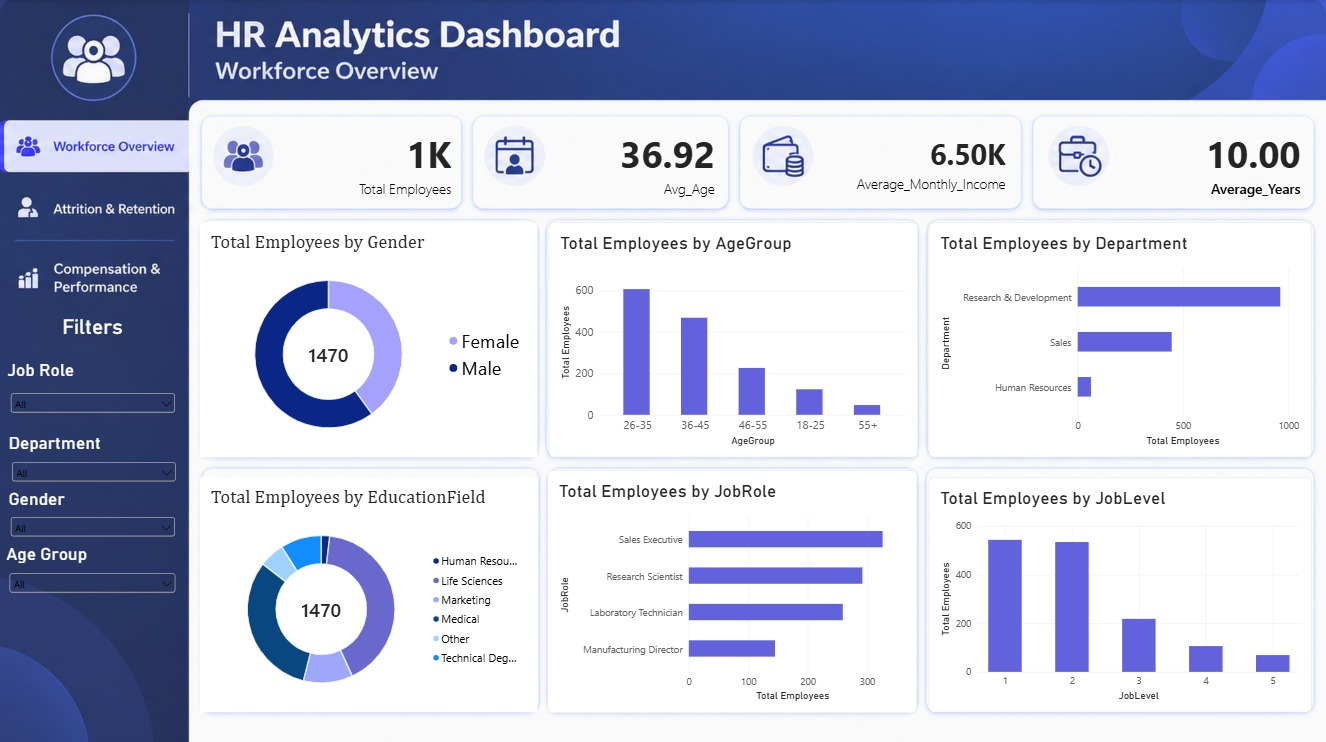

The page's visual inventory and layout, read from the dashboard file:
{"tool":"powerbi","page":{"name":"Overview","canvas":[1920,1080],"ordinal":0},"visuals":[{"type":"cardVisual","title":"dfdf","fields":{"Data":["HR_Analytics_Cleaned.Distinct_Employee_Count"]},"box":[501.3,170.1,168.3,133.9],"z":0},{"type":"cardVisual","title":"dfdf","fields":{"Data":["HR_Analytics_Cleaned.Avg_Age"]},"box":[685.7,170,365.7,134.3],"z":1000},{"type":"cardVisual","title":"dfdf","fields":{"Data":["HR_Analytics_Cleaned.Average_Monthly_Income"]},"box":[1068.6,170,404.3,134.3],"z":2000},{"type":"cardVisual","title":"dfdf","fields":{"Data":["HR_Analytics_Cleaned.Average_Years"]},"box":[1494.3,170,404.3,134.3],"z":3000},{"type":"donutChart","fields":{"Series":["HR_Analytics_Cleaned.Gender"],"Y":["HR_Analytics_Cleaned.Total Employees"]},"box":[290,322,488,340],"z":4000},{"type":"clusteredColumnChart","fields":{"Category":["HR_Analytics_Cleaned.AgeGroup"],"Y":["HR_Analytics_Cleaned.Total Employees"]},"box":[794,322,534,340],"z":5000},{"type":"donutChart","fields":{"Series":["HR_Analytics_Cleaned.EducationField"],"Y":["HR_Analytics_Cleaned.Total Employees"]},"box":[290,692,488,340],"z":6000},{"type":"clusteredBarChart","fields":{"Category":["HR_Analytics_Cleaned.Department"],"Y":["HR_Analytics_Cleaned.Total Employees"]},"box":[1344,322,554,340],"z":7000},{"type":"clusteredBarChart","fields":{"Category":["HR_Analytics_Cleaned.JobRole"],"Y":["HR_Analytics_Cleaned.Total Employees"]},"box":[793.3,680,535,351.7],"z":8000},{"type":"clusteredColumnChart","fields":{"Category":["HR_Analytics_Cleaned.JobLevel"],"Y":["HR_Analytics_Cleaned.Total Employees"]},"box":[1344,692,554,340],"z":9000},{"type":"actionButton","box":[12.7,273.3,247.9,61.5],"z":10000},{"type":"actionButton","box":[12.3,376.2,247.9,61.5],"z":11000},{"type":"textbox","title":"Filters","box":[90.5,456,90.5,36.2],"z":12000},{"type":"slicer","fields":{"Values":["HR_Analytics_Cleaned.JobRole"]},"box":[10,563.9,247.8,43.3],"z":13000},{"type":"textbox","title":"Job Role","box":[10.9,521.2,124.9,36.2],"z":14000},{"type":"textbox","title":"Department","box":[12.7,626.1,148.4,36.2],"z":15000},{"type":"textbox","title":"Gender","box":[12.7,707.6,148.4,36.2],"z":16000},{"type":"textbox","title":"Age Group","box":[9,787.2,148.4,38],"z":17000},{"type":"slicer","fields":{"Values":["HR_Analytics_Cleaned.Department"]},"box":[12.7,664.5,246.4,42.7],"z":18000},{"type":"slicer","fields":{"Values":["HR_Analytics_Cleaned.Gender"]},"box":[10.9,743.6,247.3,43.6],"z":19000},{"type":"slicer","fields":{"Values":["HR_Analytics_Cleaned.Department"]},"box":[8.2,825.5,250,35.5],"z":20000}]}

Visuals, with their boxes on the page's 1920x1080 design canvas (x1, y1, x2, y2). These are canvas units, not pixel positions in the 1326x742 screenshot, which may show the page scaled, cropped or inside an application window:
"dfdf" cardVisual: x1=501, y1=170, x2=670, y2=304
"dfdf" cardVisual: x1=686, y1=170, x2=1051, y2=304
"dfdf" cardVisual: x1=1069, y1=170, x2=1473, y2=304
"dfdf" cardVisual: x1=1494, y1=170, x2=1899, y2=304
donutChart - HR_Analytics_Cleaned.Gender x HR_Analytics_Cleaned.Total Employees: x1=290, y1=322, x2=778, y2=662
clusteredColumnChart - HR_Analytics_Cleaned.AgeGroup x HR_Analytics_Cleaned.Total Employees: x1=794, y1=322, x2=1328, y2=662
donutChart - HR_Analytics_Cleaned.EducationField x HR_Analytics_Cleaned.Total Employees: x1=290, y1=692, x2=778, y2=1032
clusteredBarChart - HR_Analytics_Cleaned.Department x HR_Analytics_Cleaned.Total Employees: x1=1344, y1=322, x2=1898, y2=662
clusteredBarChart - HR_Analytics_Cleaned.JobRole x HR_Analytics_Cleaned.Total Employees: x1=793, y1=680, x2=1328, y2=1032
clusteredColumnChart - HR_Analytics_Cleaned.JobLevel x HR_Analytics_Cleaned.Total Employees: x1=1344, y1=692, x2=1898, y2=1032
actionButton: x1=13, y1=273, x2=261, y2=335
actionButton: x1=12, y1=376, x2=260, y2=438
"Filters" textbox: x1=90, y1=456, x2=181, y2=492
slicer - HR_Analytics_Cleaned.JobRole: x1=10, y1=564, x2=258, y2=607
"Job Role" textbox: x1=11, y1=521, x2=136, y2=557
"Department" textbox: x1=13, y1=626, x2=161, y2=662
"Gender" textbox: x1=13, y1=708, x2=161, y2=744
"Age Group" textbox: x1=9, y1=787, x2=157, y2=825
slicer - HR_Analytics_Cleaned.Department: x1=13, y1=664, x2=259, y2=707
slicer - HR_Analytics_Cleaned.Gender: x1=11, y1=744, x2=258, y2=787
slicer - HR_Analytics_Cleaned.Department: x1=8, y1=826, x2=258, y2=861
